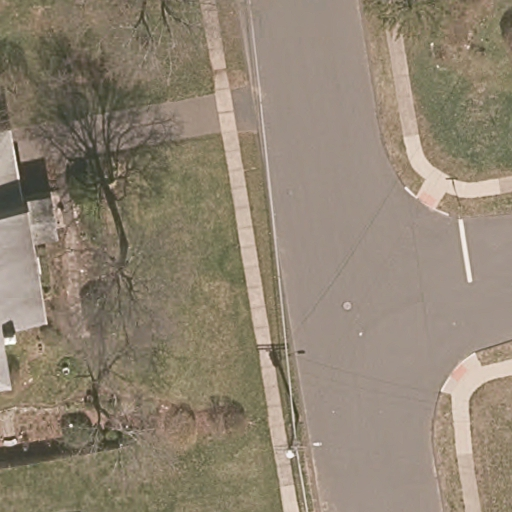DT: (284, 417, 322, 460)
